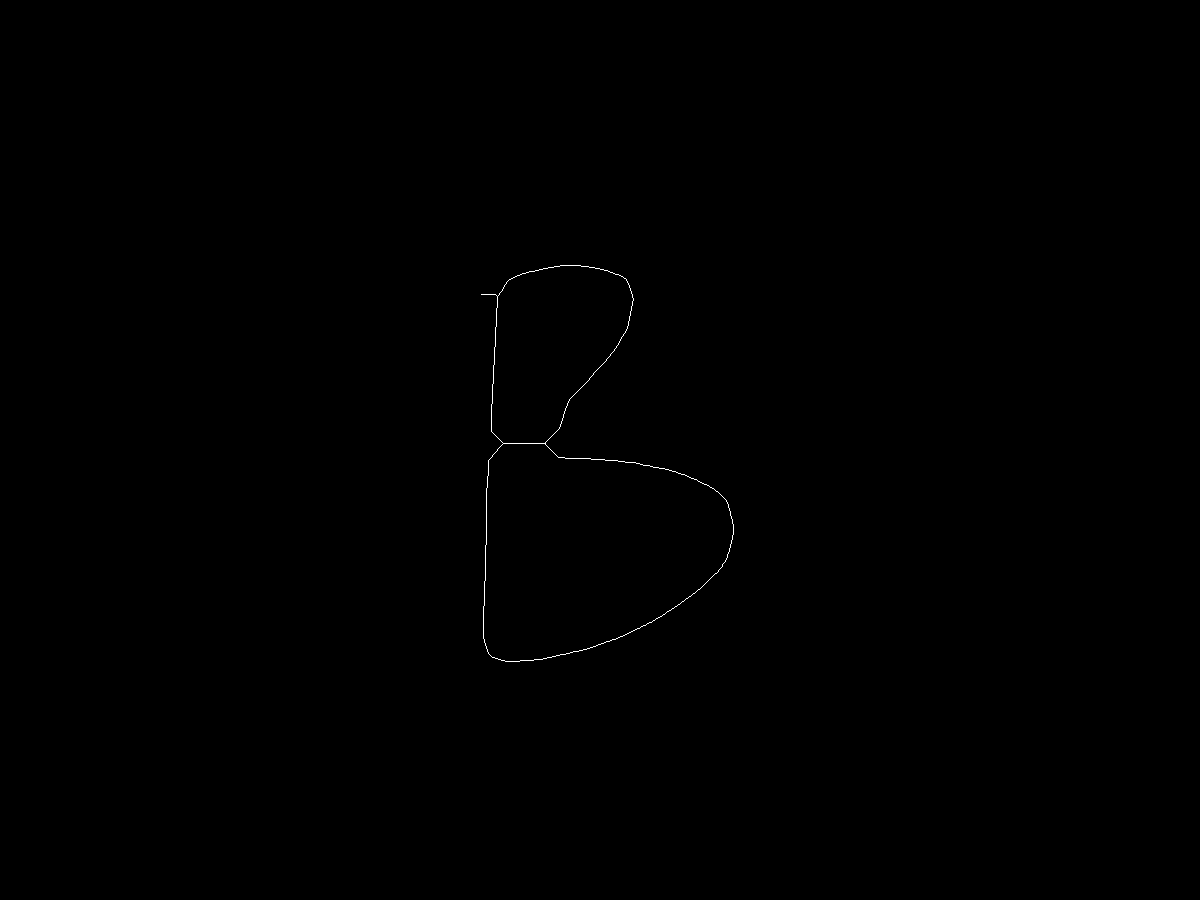dian1: (495, 286, 509, 300)
dian2: (495, 439, 508, 452)
dian3: (478, 636, 492, 650)
dian4: (545, 433, 560, 448)
